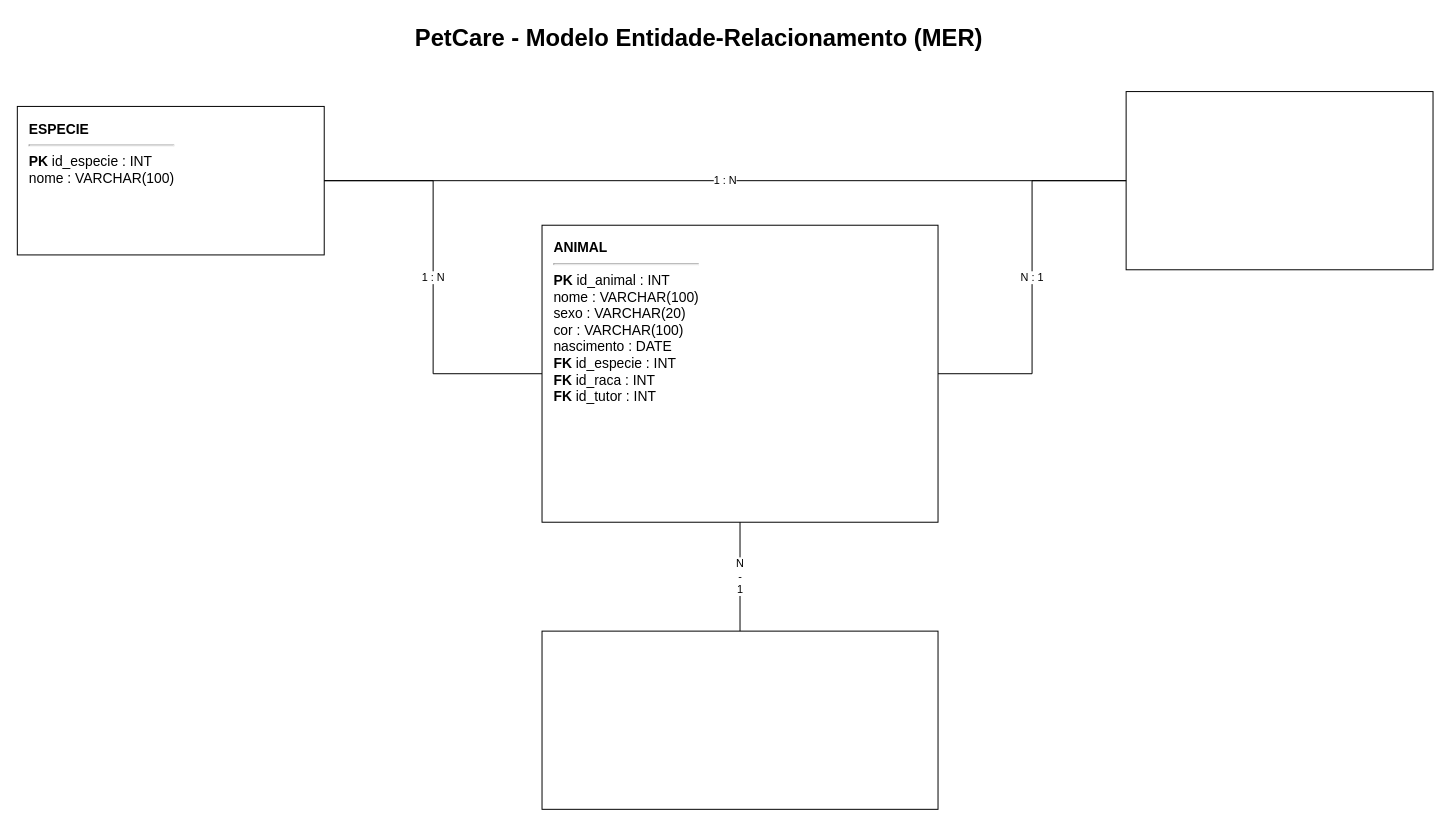
Image size: 1450x827. Some labels were removed from this diagram. The centre of each missing label's shape, as x and y in pixels:
RACA PK id_raca : INT nome : VARCHAR(100) FK id_especie : INT: the point at 1279,180
TUTOR PK id_tutor : INT nome : VARCHAR(150) telefone : VARCHAR(20): the point at 739,719
